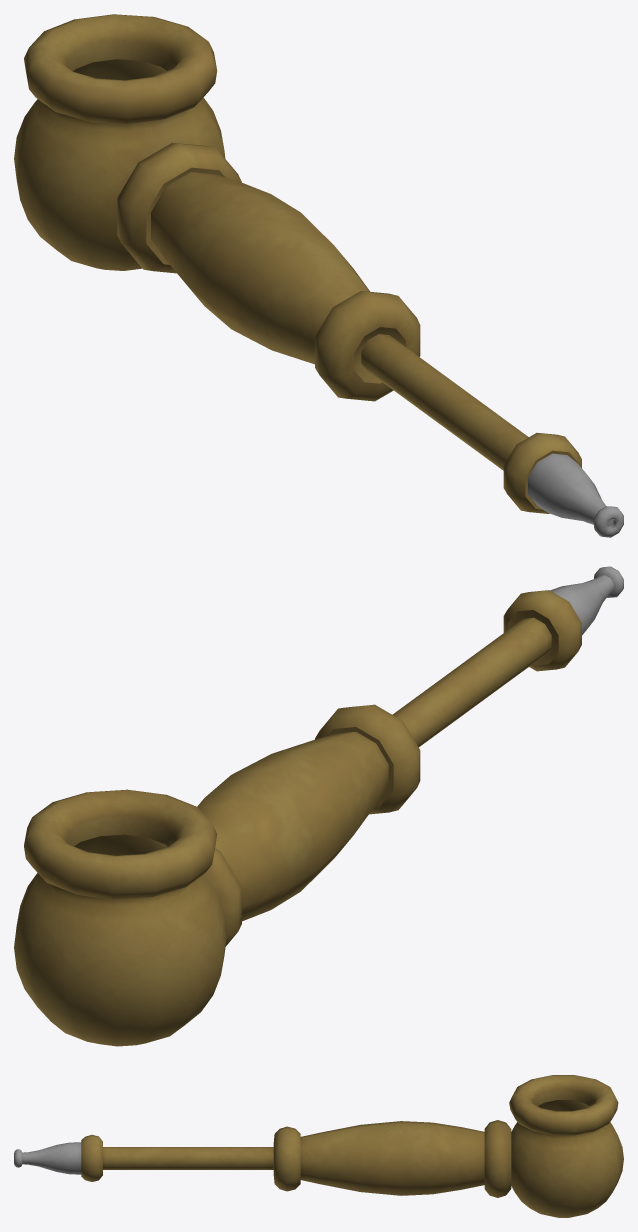
The model's file is golden_pipe.glb.
3 views of the same model, one above another, from view 1: azimuth 30°, elevation 25°; view 2: azimuth 150°, elevation 25°; view 3: azimuth 270°, elevation 25° (orthographic). The views are drawn at different scales.
Visible parts, largest first — view 1: Golden_Pipe; view 2: Golden_Pipe; view 3: Golden_Pipe.
Boxes of the visible parts, box(x1,y1,x2,y2) form: Golden_Pipe: box(14, 14, 623, 537); Golden_Pipe: box(14, 566, 623, 1046); Golden_Pipe: box(14, 1075, 623, 1217).
Size of the model in its own units: 0.31 by 0.3438 by 1.61.
Materials: 1 (1 with a texture image).
